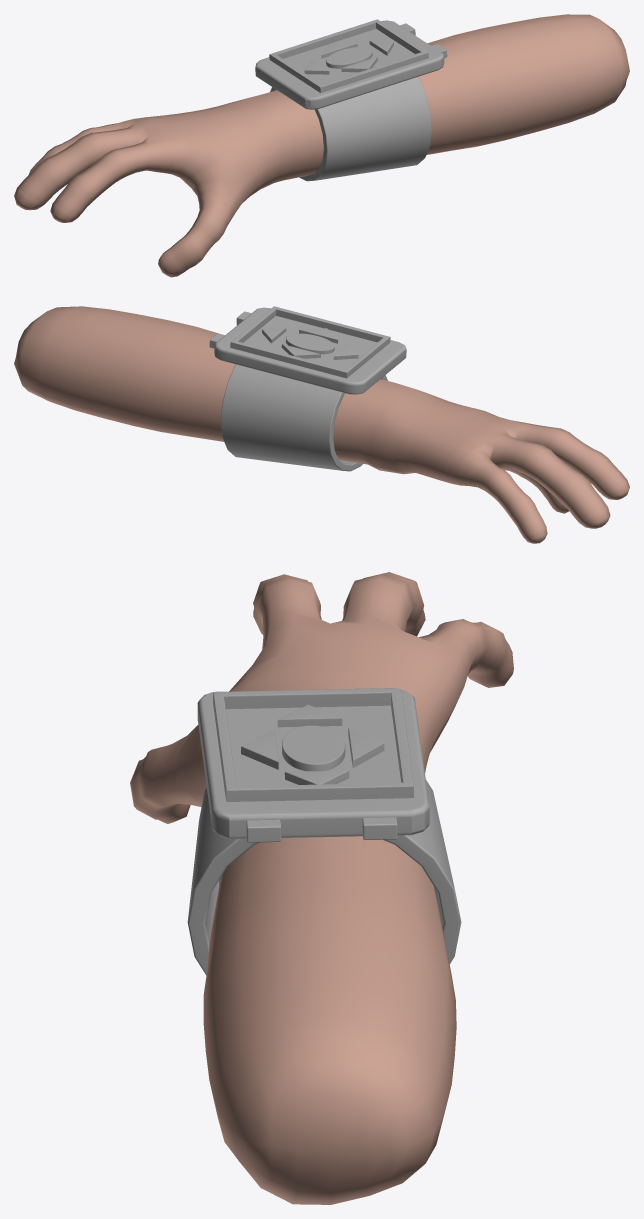
The model's file is Packboy_01.fbx.
3 views of the same model, one above another, from view 1: azimuth 30°, elevation 25°; view 2: azimuth 150°, elevation 25°; view 3: azimuth 270°, elevation 25° (orthographic). The views are drawn at different scales.
Visible parts, largest first — view 1: AnatomyHandAlien:alienhand, packboy2, wristband; view 2: AnatomyHandAlien:alienhand, packboy2, wristband; view 3: AnatomyHandAlien:alienhand, packboy2, wristband.
Boxes of the visible parts, bbox=[...] form: AnatomyHandAlien:alienhand: bbox=[14, 14, 629, 277]; packboy2: bbox=[255, 19, 444, 109]; wristband: bbox=[270, 76, 431, 181]; AnatomyHandAlien:alienhand: bbox=[14, 306, 629, 543]; packboy2: bbox=[214, 306, 406, 394]; wristband: bbox=[220, 364, 387, 471]; AnatomyHandAlien:alienhand: bbox=[130, 572, 513, 1204]; packboy2: bbox=[197, 688, 429, 839]; wristband: bbox=[187, 779, 461, 975].
Size of the model in its own units: 61.68 by 14.85 by 17.51.
